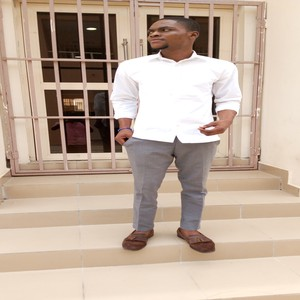Fulokoja_male_student: (130, 18, 222, 250)
